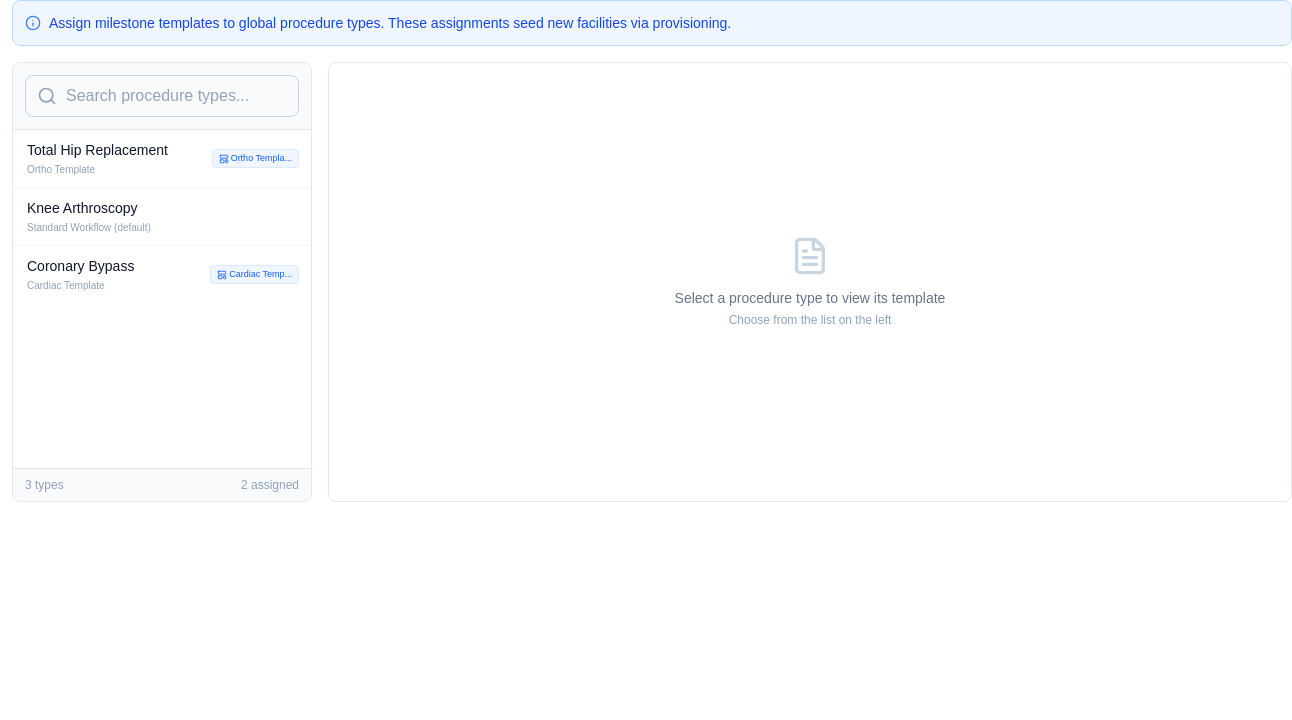
Test: AdminProcedureTypeAssignment › search filtering › filters procedure types by name
Type "Hip" into the field with placeholder "Search procedure types..." at [162, 96], box [25, 75, 299, 117]
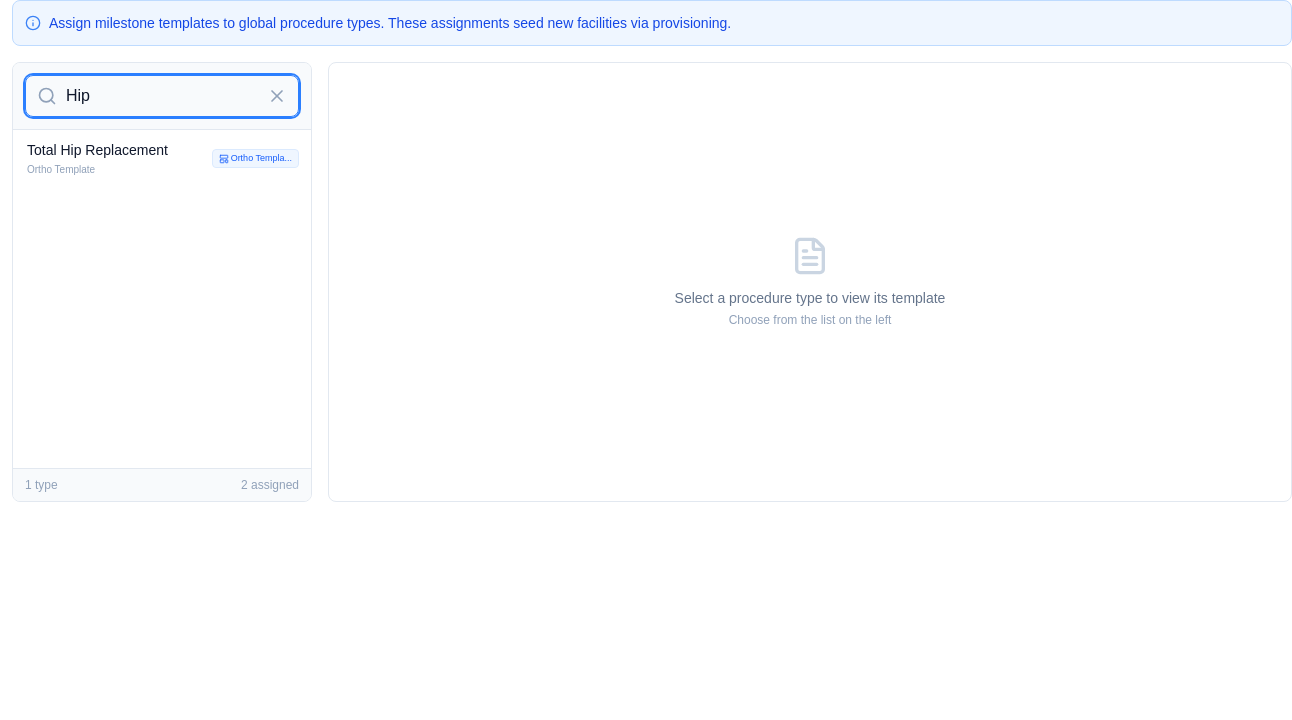
Expected: the text "Total Hip Replacement" is shown, [27, 142, 168, 158]
Expected: the button "Knee Arthroscopy" is gone
Expected: the button "Coronary Bypass" is gone
